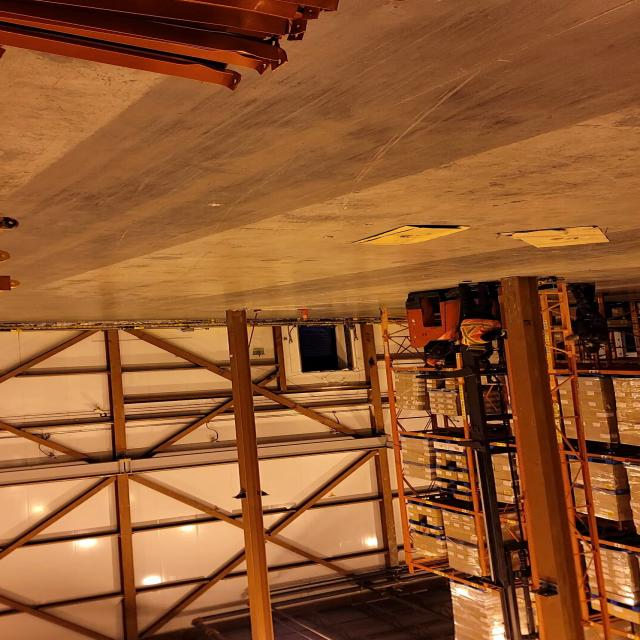forklift: (403, 274, 580, 449)
human: (449, 279, 509, 358), (561, 280, 608, 359), (417, 338, 458, 370)
objectofinterest: (502, 271, 586, 609), (350, 222, 476, 247), (494, 226, 615, 250)
